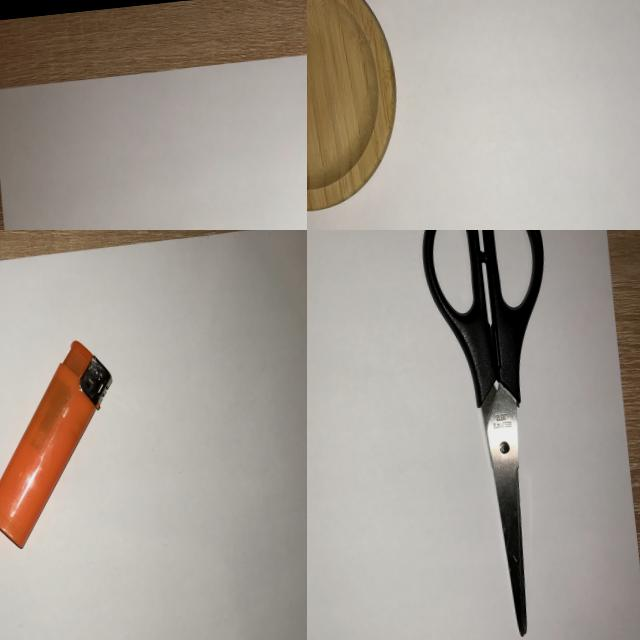cup_holder: (307, 0, 412, 227)
lighter: (0, 332, 137, 560)
scissors: (409, 230, 588, 640)
